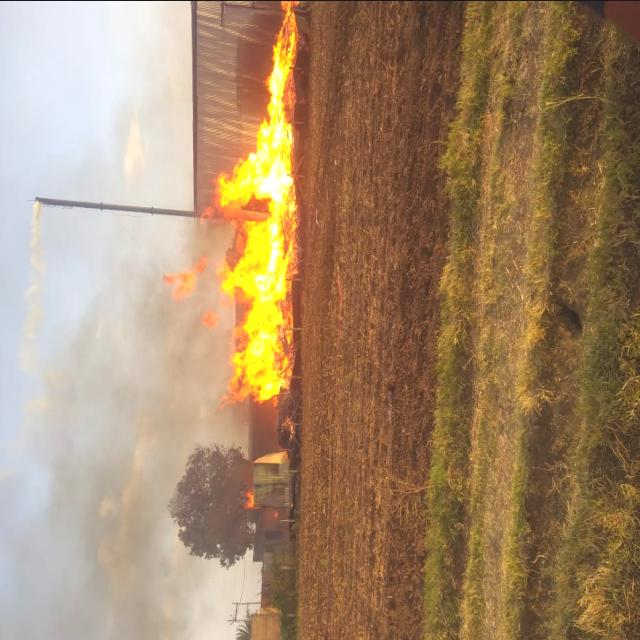firerotation: (157, 0, 299, 418), (243, 488, 255, 512)
